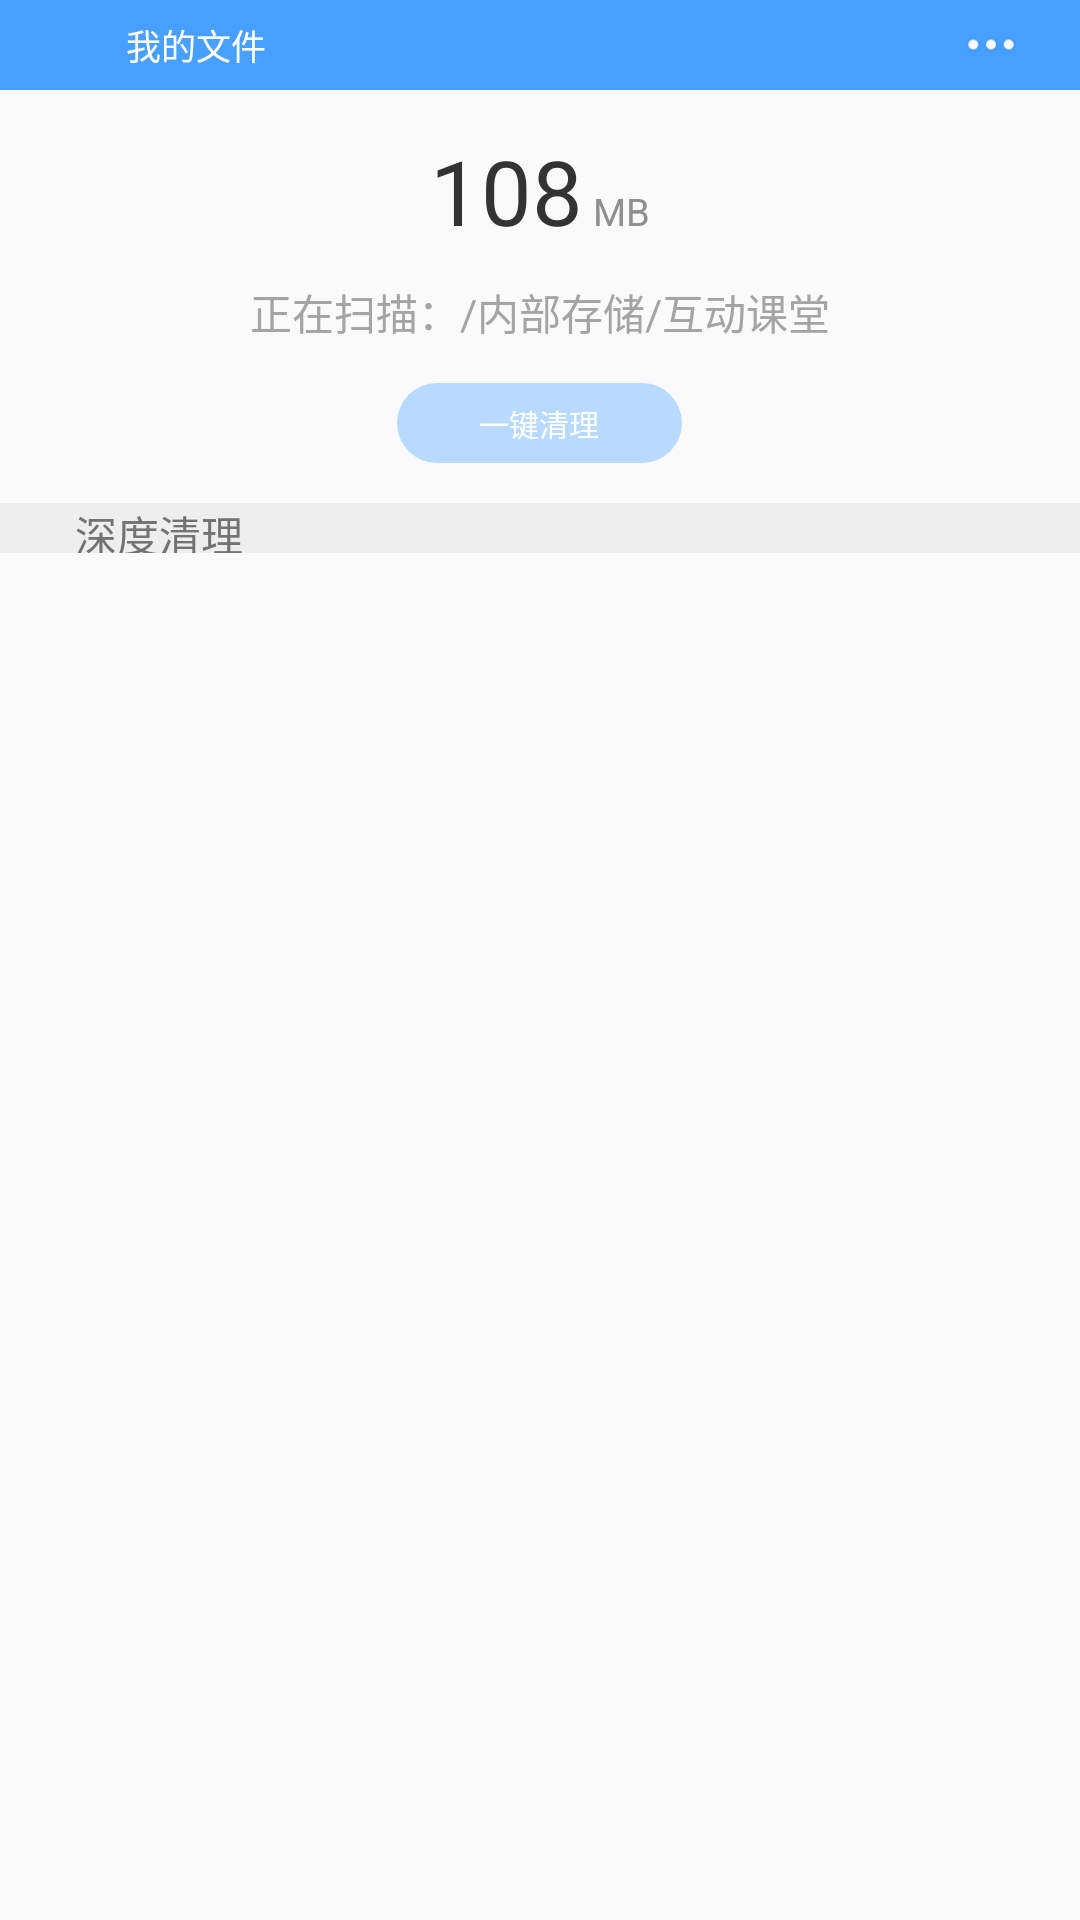

Screen size 1080px x 1920px. Icon name, then its box in pixels as bbox=[x1, y1, x2, y2]:
shape menu more: bbox=[968, 39, 1014, 50]
